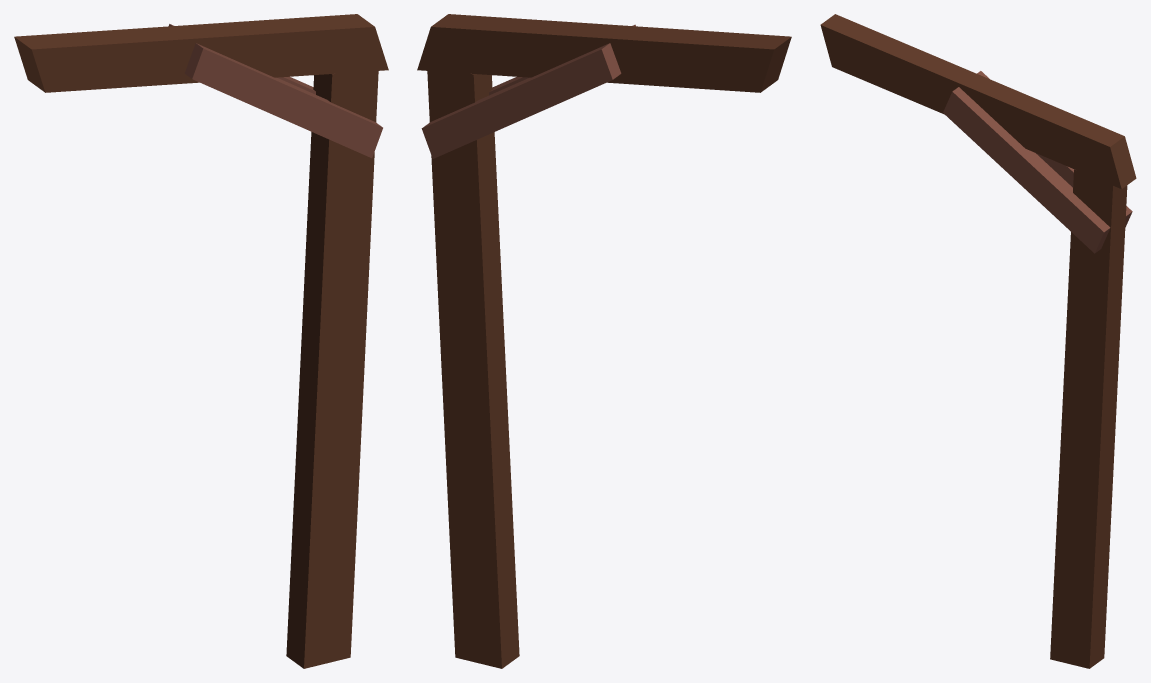
File: Mesh_post.fbx
3 views of the same model, side by side, from view 1: azimuth 30°, elevation 25°; view 2: azimuth 150°, elevation 25°; view 3: azimuth 330°, elevation 25° (orthographic). The views are drawn at different scales.
Parts seen in each view (by area): view 1: post; view 2: post; view 3: post.
Boxes of the visible parts, x1,y1,x2,y2 form: post: (14, 14, 388, 668); post: (417, 14, 791, 668); post: (820, 14, 1136, 668).
Bounding box in the file's own units: 266 × 489 × 43.75.
1 material, 1 textured.
